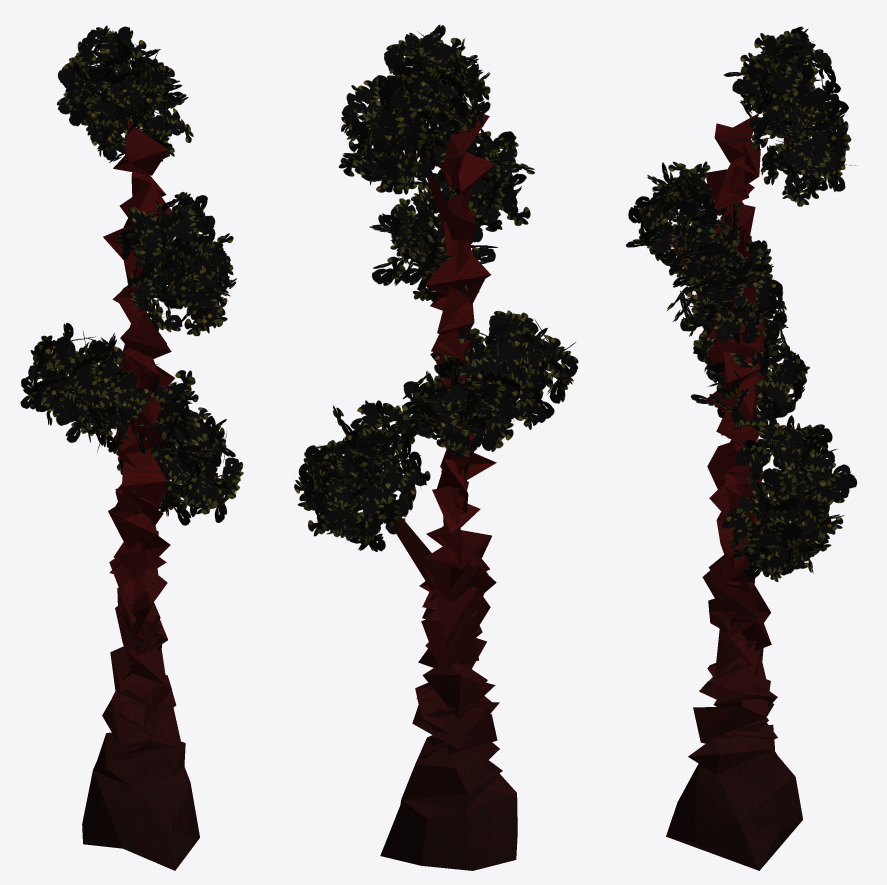
Rendered from deadwood_snag_v03_LOD2.glb.
3 views of the same model, side by side, from view 1: azimuth 30°, elevation 25°; view 2: azimuth 150°, elevation 25°; view 3: azimuth 270°, elevation 25° (orthographic). The views are drawn at different scales.
Parts seen in each view (by area): view 1: deadwood_snag_v03_LOD2; view 2: deadwood_snag_v03_LOD2; view 3: deadwood_snag_v03_LOD2.
Part boxes in pixels (bbox=[...]): deadwood_snag_v03_LOD2: bbox=[20, 26, 243, 870]; deadwood_snag_v03_LOD2: bbox=[294, 25, 578, 870]; deadwood_snag_v03_LOD2: bbox=[626, 26, 856, 870].
Size of the model in its own units: 2.9 by 9.26 by 2.6.
2 materials, 2 textured.
